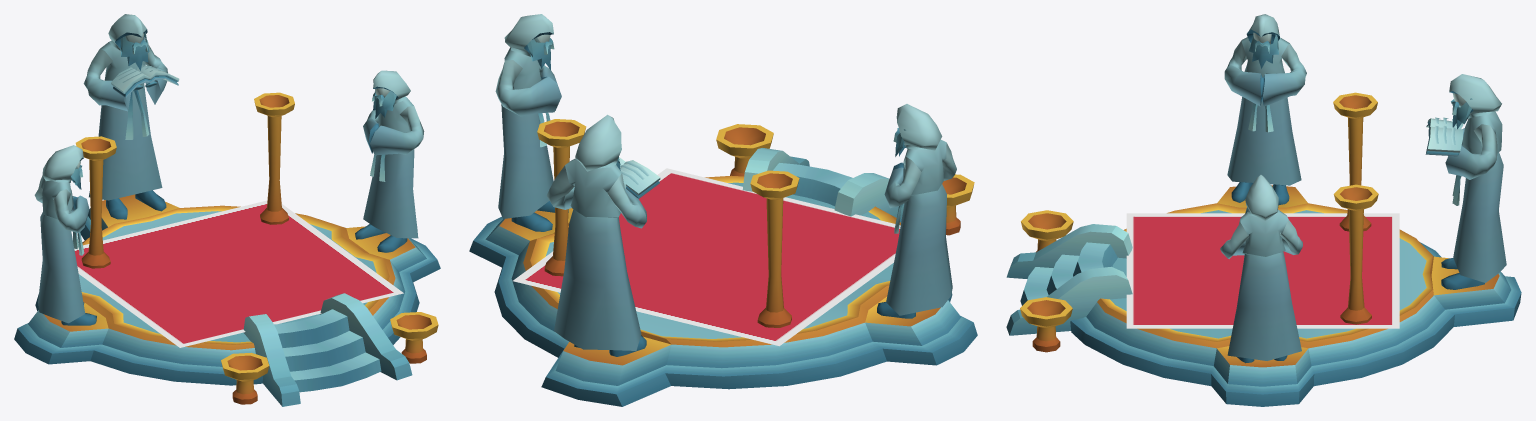
File: env_Demon_Altar_Spawn_lvl_2.fbx
The picture shows the model from 3 angles, left to right: view 1: azimuth 30°, elevation 25°; view 2: azimuth 150°, elevation 25°; view 3: azimuth 270°, elevation 25°; orthographic projection. The views are drawn at different scales.
Visible parts, largest first — view 1: Env_Demon_Summon_Altar, Summon_symbol, statue_1, statue_3, statue_2, Torchlight_podium_for_vfx_2, Torchlight_podium_for_vfx_1, Torchlight_podium_for_vfx_3, Torchlight_podium_for_vfx_4; view 2: Env_Demon_Summon_Altar, Summon_symbol, statue_1, statue_2, statue_3, Torchlight_podium_for_vfx_1, Torchlight_podium_for_vfx_2, Torchlight_podium_for_vfx_4, Torchlight_podium_for_vfx_3; view 3: Env_Demon_Summon_Altar, Summon_symbol, statue_1, statue_2, statue_3, Torchlight_podium_for_vfx_2, Torchlight_podium_for_vfx_1, Torchlight_podium_for_vfx_4, Torchlight_podium_for_vfx_3.
Part boxes in pixels (x1,y1,x2,y2): Env_Demon_Summon_Altar: (14, 194, 440, 406); Summon_symbol: (74, 200, 403, 347); statue_1: (83, 14, 179, 219); statue_3: (355, 70, 424, 252); statue_2: (34, 145, 96, 325); Torchlight_podium_for_vfx_2: (254, 92, 294, 224); Torchlight_podium_for_vfx_1: (75, 136, 116, 268); Torchlight_podium_for_vfx_3: (221, 352, 269, 404); Torchlight_podium_for_vfx_4: (390, 312, 438, 363); Env_Demon_Summon_Altar: (469, 148, 977, 406); Summon_symbol: (513, 168, 900, 346); statue_1: (546, 114, 660, 356); statue_2: (877, 104, 956, 318); statue_3: (495, 14, 568, 231); Torchlight_podium_for_vfx_1: (750, 170, 799, 327); Torchlight_podium_for_vfx_2: (537, 119, 586, 276); Torchlight_podium_for_vfx_4: (716, 124, 773, 176); Torchlight_podium_for_vfx_3: (942, 174, 974, 235); Env_Demon_Summon_Altar: (1006, 185, 1521, 406); Summon_symbol: (1126, 213, 1399, 328); statue_1: (1425, 74, 1506, 289); statue_2: (1224, 14, 1306, 204); statue_3: (1220, 175, 1302, 363); Torchlight_podium_for_vfx_2: (1333, 184, 1378, 324); Torchlight_podium_for_vfx_1: (1333, 92, 1377, 231); Torchlight_podium_for_vfx_4: (1020, 297, 1072, 352); Torchlight_podium_for_vfx_3: (1021, 210, 1073, 252).
Bounding box in the file's own units: 967 × 501 × 1014.
